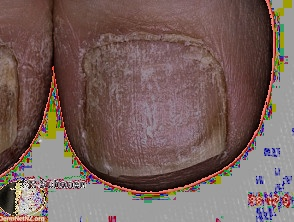Nail_psoriasis: (70, 17, 238, 192), (0, 28, 55, 180)
